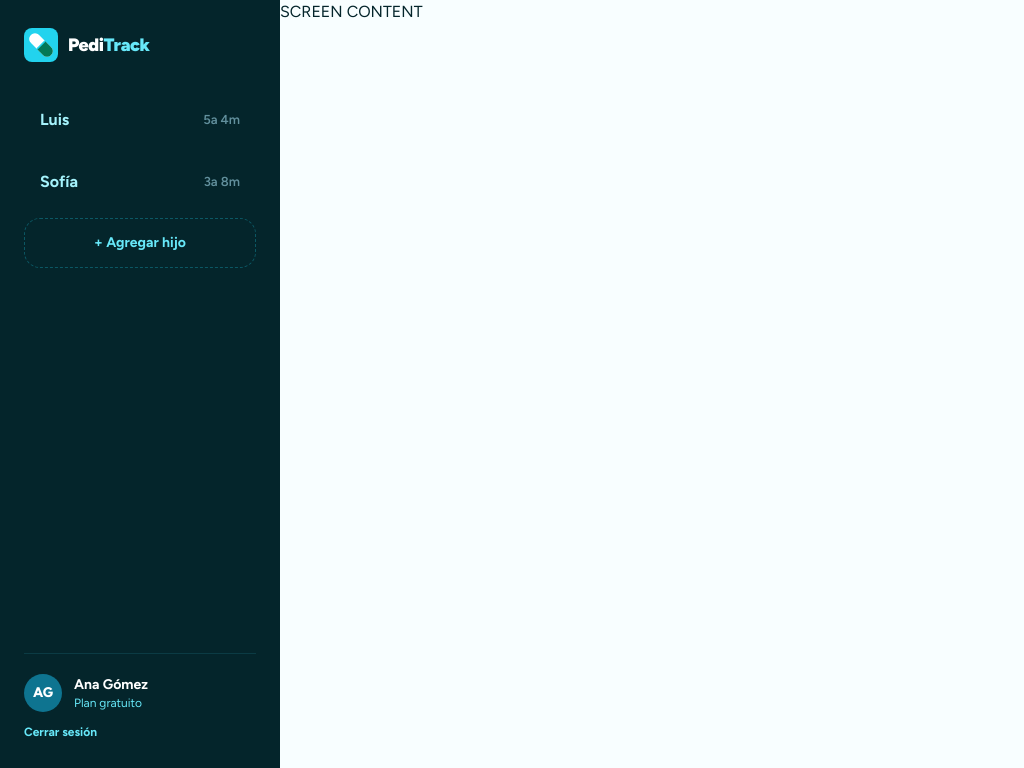
Test case: AppShell › opens the plan-limit pop-up (in <body>, not inside the sticky sidebar) when the free plan is full
Click the button "+ Agregar hijo" at x=140, y=243, box [24, 218, 256, 268]
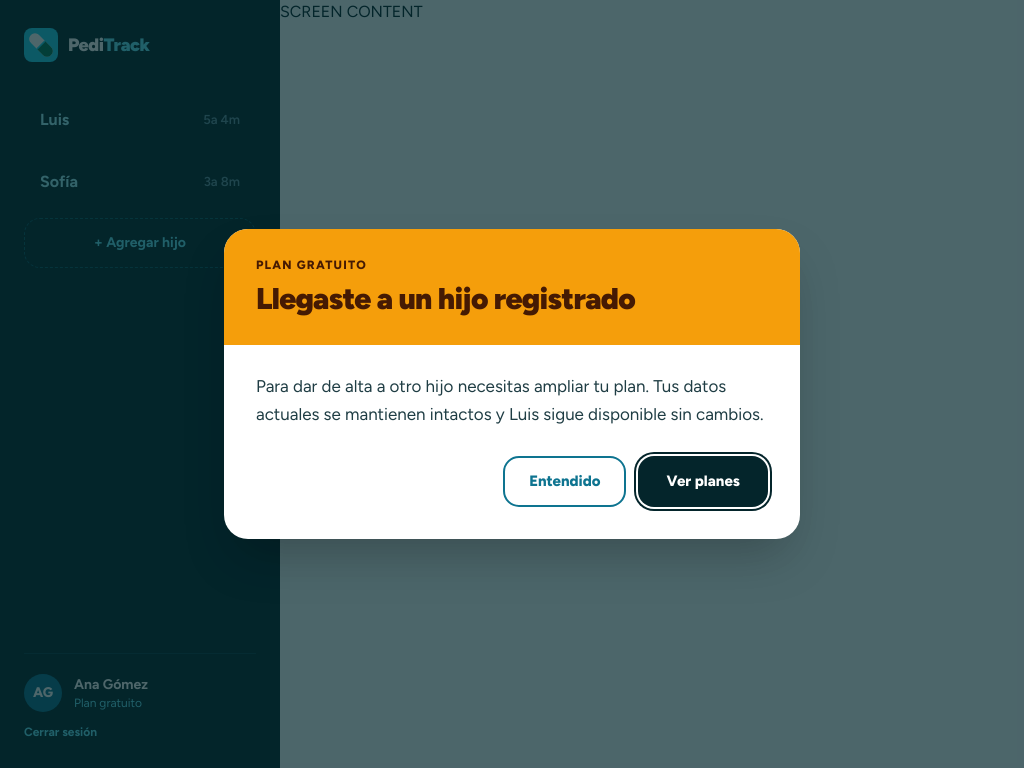
Expected: the text "Luis sigue disponible sin cambios" is shown, [492, 404, 760, 424]
